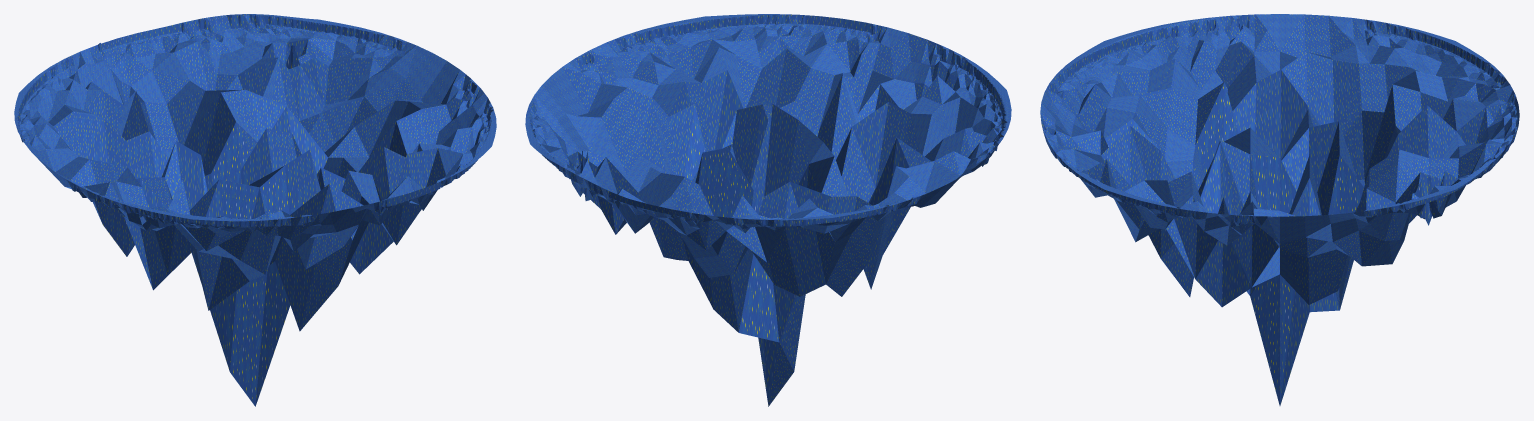
File: iceberg.obj
3 renders of one model, left to right at view 1: azimuth 30°, elevation 25°; view 2: azimuth 150°, elevation 25°; view 3: azimuth 270°, elevation 25°, orthographic.
Parts seen in each view (by area): view 1: groundfinal.001; view 2: groundfinal.001; view 3: groundfinal.001.
Part boxes in pixels (bbox=[...]): groundfinal.001: bbox=[14, 14, 496, 406]; groundfinal.001: bbox=[525, 14, 1011, 406]; groundfinal.001: bbox=[1040, 14, 1519, 405].
Size of the model in its own units: 588 by 401 by 588.
Materials: 1 (1 with a texture image).
